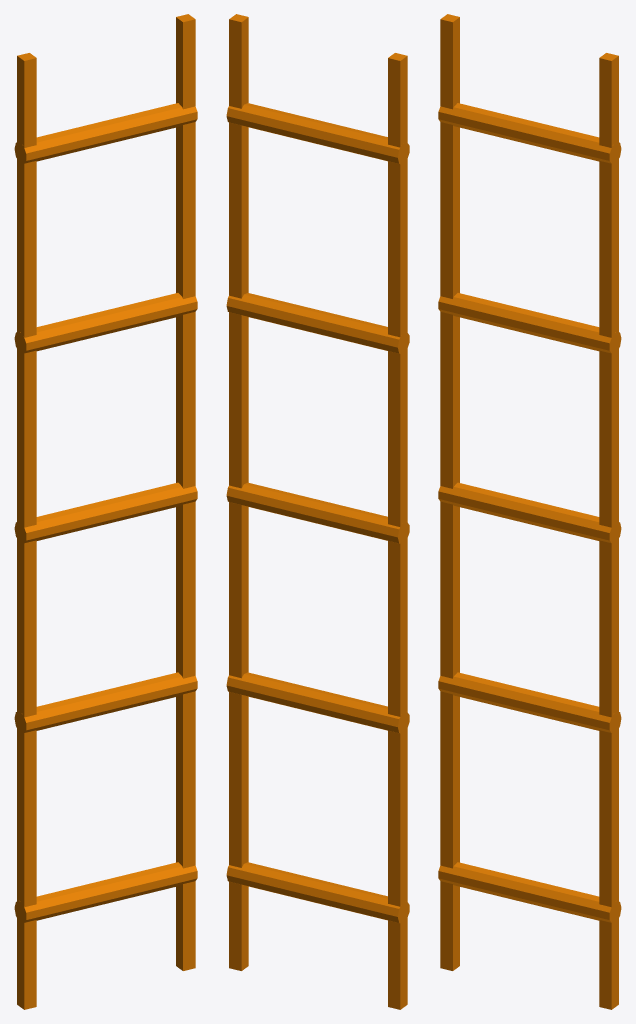
The model's file is house_template_19.fbx.
3 views of the same model, side by side, from view 1: azimuth 30°, elevation 25°; view 2: azimuth 150°, elevation 25°; view 3: azimuth 330°, elevation 25° (orthographic).
Parts seen in each view (by area): view 1: house template_19; view 2: house template_19; view 3: house template_19.
Part boxes in pixels (<box>): house template_19: <box>14,14,197,1009</box>; house template_19: <box>226,14,409,1009</box>; house template_19: <box>438,14,621,1009</box>.
Size of the model in its own units: 30.49 by 161 by 3.6.
